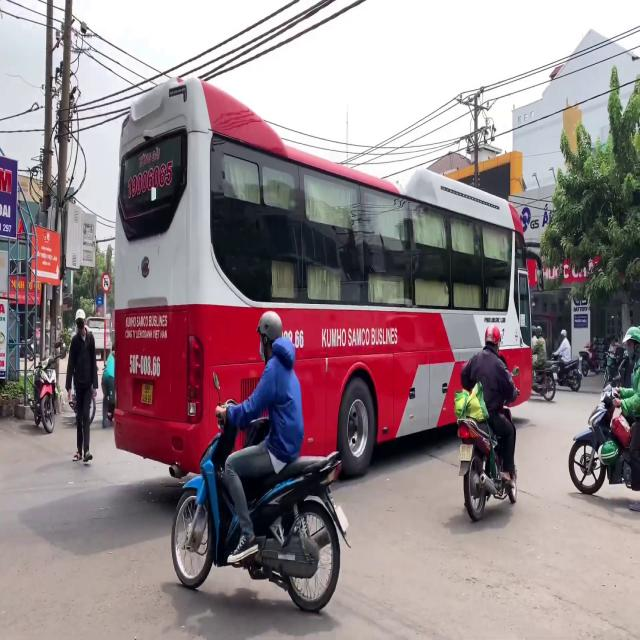bien_vang: (140, 383, 152, 406)
